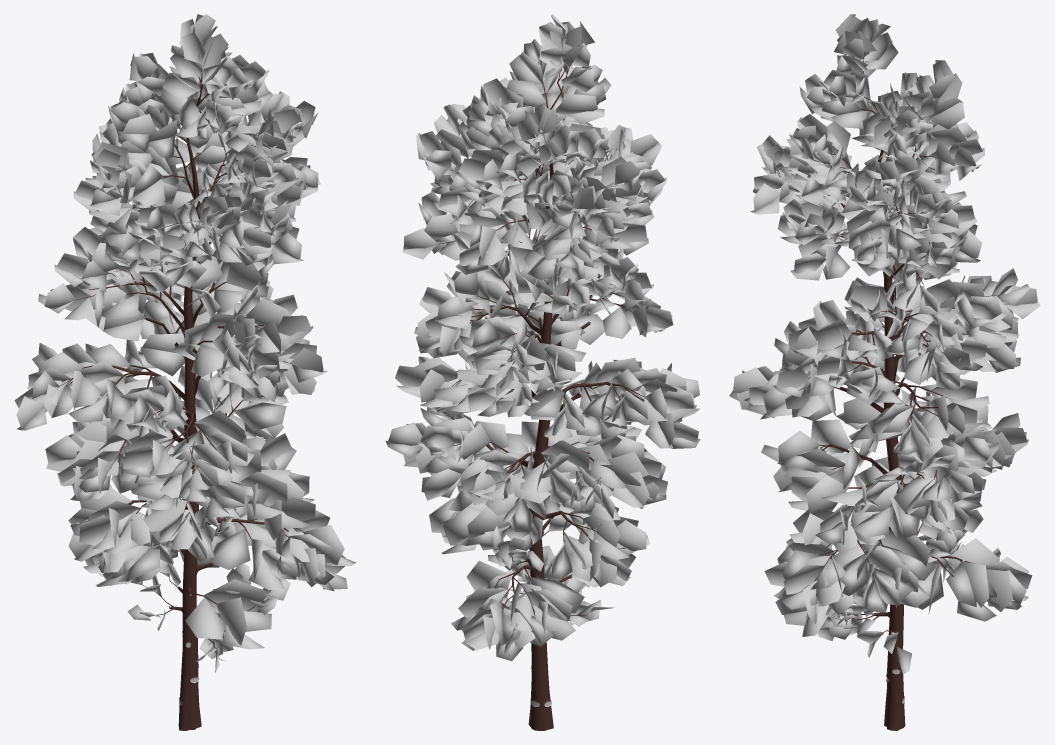
Rendered from conifer_macedonian_pine.obj.
The picture shows the model from 3 angles, left to right: view 1: azimuth 30°, elevation 25°; view 2: azimuth 150°, elevation 25°; view 3: azimuth 270°, elevation 25°; orthographic projection. The views are drawn at different scales.
Parts seen in each view (by area): view 1: conifer_macedonian_pine_5; view 2: conifer_macedonian_pine_5; view 3: conifer_macedonian_pine_5.
Part boxes in pixels (x1,y1,x2,y2): conifer_macedonian_pine_5: [14, 14, 355, 730]; conifer_macedonian_pine_5: [385, 14, 700, 730]; conifer_macedonian_pine_5: [729, 14, 1040, 730].
Bounding box in the file's own units: 1337 × 3143 × 1252.
